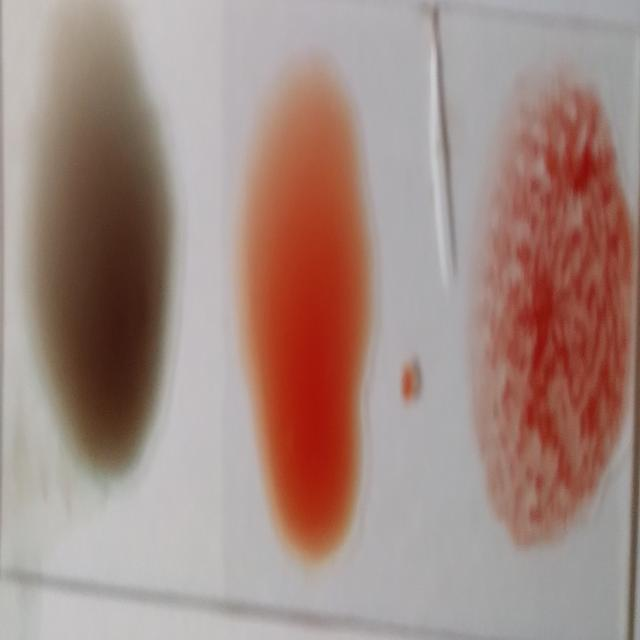D: (468, 90, 626, 534)
